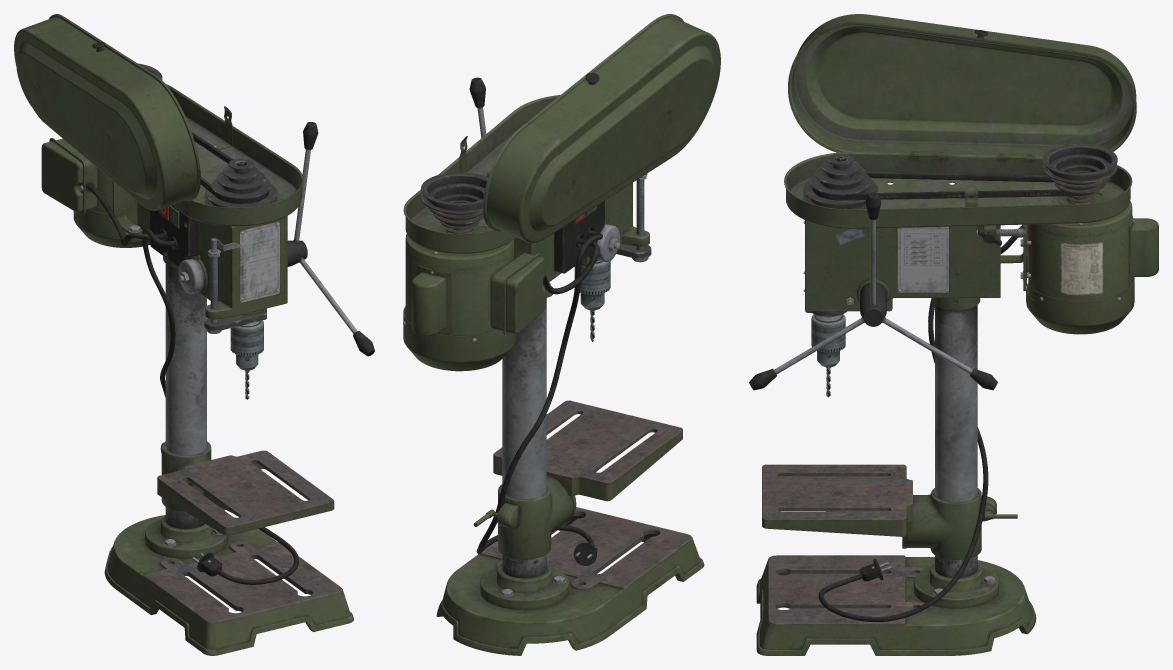
The model's file is drill_press_01_1k.glb.
The picture shows the model from 3 angles, left to right: view 1: azimuth 30°, elevation 25°; view 2: azimuth 150°, elevation 25°; view 3: azimuth 270°, elevation 25°; orthographic projection. The views are drawn at different scales.
Parts seen in each view (by area): view 1: drill_press_01, drill_press_01_lid, drill_press_01_plate, drill_press_01_gear_b, drill_press_01_plug, drill_press_01_handle, drill_press_01_limiter, drill_press_01_bit, drill_press_01_belt; view 2: drill_press_01, drill_press_01_lid, drill_press_01_plate, drill_press_01_gear_a, drill_press_01_plug, drill_press_01_bit, drill_press_01_limiter, drill_press_01_handle; view 3: drill_press_01, drill_press_01_lid, drill_press_01_plate, drill_press_01_handle, drill_press_01_gear_a, drill_press_01_belt, drill_press_01_plug, drill_press_01_gear_b, drill_press_01_bit.
Boxes of the visible parts, x1,y1,x2,y2 form: drill_press_01: (41,84,353,655); drill_press_01_lid: (14,14,200,210); drill_press_01_plate: (157,441,334,535); drill_press_01_gear_b: (205,158,277,207); drill_press_01_plug: (142,229,298,584); drill_press_01_handle: (287,122,374,356); drill_press_01_limiter: (204,238,266,333); drill_press_01_bit: (230,320,263,399); drill_press_01_belt: (191,132,268,203); drill_press_01: (403,95,704,655); drill_press_01_lid: (483,14,720,243); drill_press_01_plate: (493,400,682,559); drill_press_01_gear_a: (421,172,488,233); drill_press_01_plug: (476,230,602,565); drill_press_01_bit: (574,260,610,341); drill_press_01_limiter: (616,173,651,262); drill_press_01_handle: (469,77,489,174); drill_press_01: (756,152,1158,655); drill_press_01_lid: (788,14,1136,160); drill_press_01_plate: (762,464,996,559); drill_press_01_handle: (749,192,997,390); drill_press_01_gear_a: (1043,143,1117,203); drill_press_01_belt: (812,171,1095,200); drill_press_01_plug: (818,298,988,621); drill_press_01_gear_b: (803,153,877,209); drill_press_01_bit: (811,314,845,397).
Bounding box in the file's own units: 0.3543 × 0.9011 × 0.5988.
Materials: 1 (1 with a texture image).
